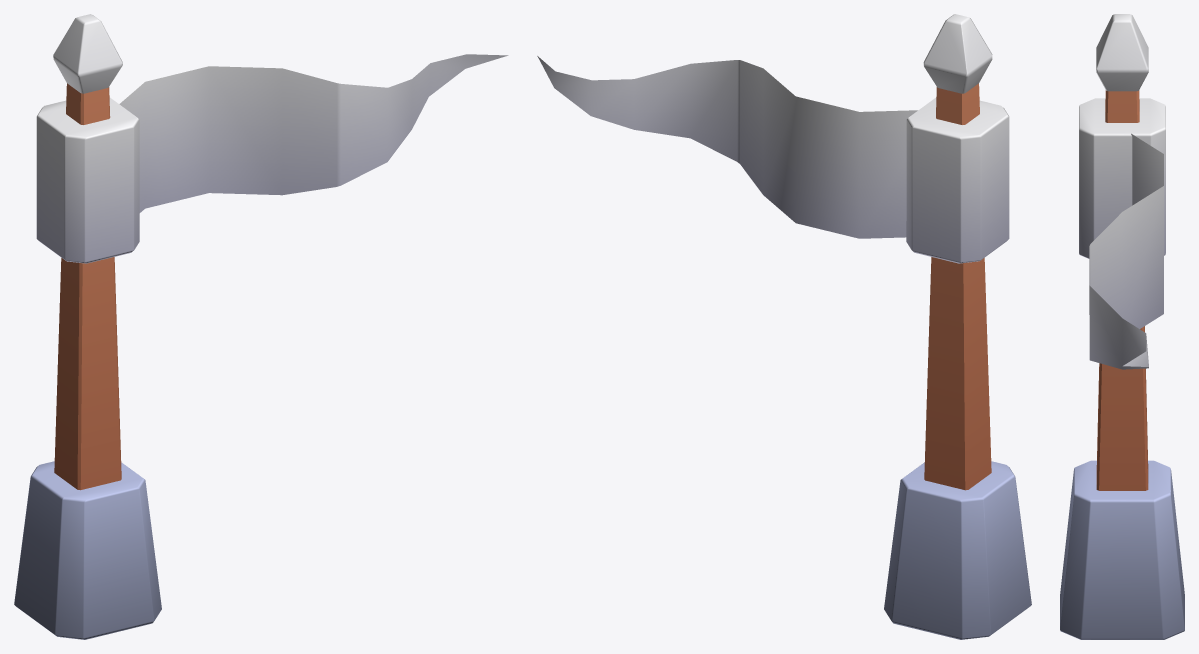
File: kenney-pirate__flag-pennant.glb
3 views of the same model, side by side, from view 1: azimuth 30°, elevation 25°; view 2: azimuth 150°, elevation 25°; view 3: azimuth 270°, elevation 25° (orthographic).
Parts seen in each view (by area): view 1: flag-pennant; view 2: flag-pennant; view 3: flag-pennant.
Part boxes in pixels (x1,y1,x2,y2): flag-pennant: (14,14,508,639); flag-pennant: (537,14,1031,639); flag-pennant: (1060,14,1184,639).
Bounding box in the file's own units: 1.76 × 2.1 × 0.3973.
1 material, 1 textured.
